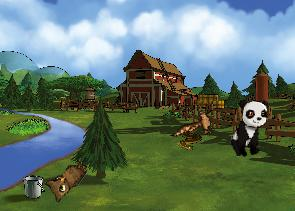eagle: (170, 95, 225, 153)
owl: (40, 151, 89, 205)
panda: (229, 96, 270, 160)
